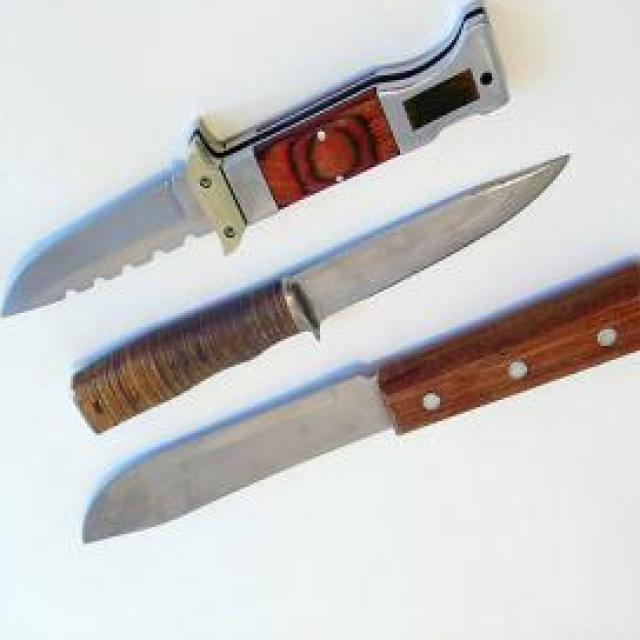knife: (82, 261, 640, 553), (0, 0, 508, 320), (64, 148, 572, 442)
